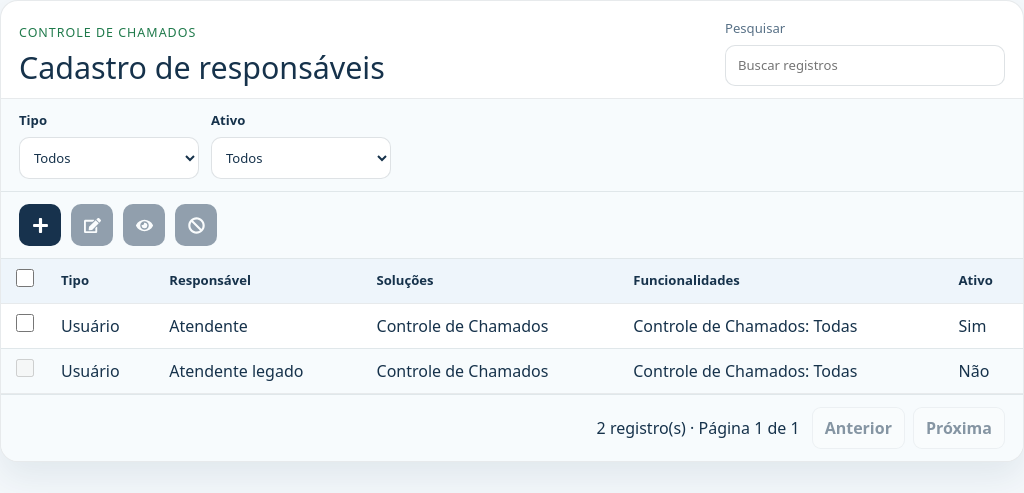
Configurações do Controle de Chamados › impede nova desativação de registros inativos em responsáveis
Expected: the cell "Atendente legado" is shown, [157,348,364,393]
Expected: the button named "Desativar selecionados. Indisponível: Marque ao menos um registro ativo para desativação." is disabled, [175,204,217,246]
Click the checkbox named "Selecionar Atendente": coordinates (25, 323) [16,314,34,332]
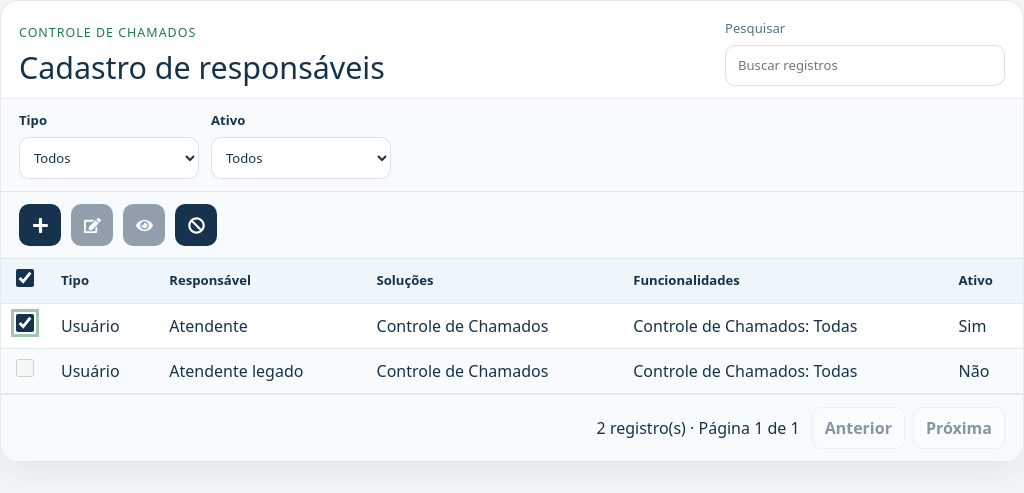
Now the button named "Desativar selecionados" is enabled, box [175,204,217,246]
